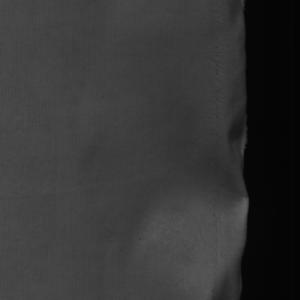Damage: (237, 1, 272, 300)
Wrinkle: (94, 1, 229, 300)
